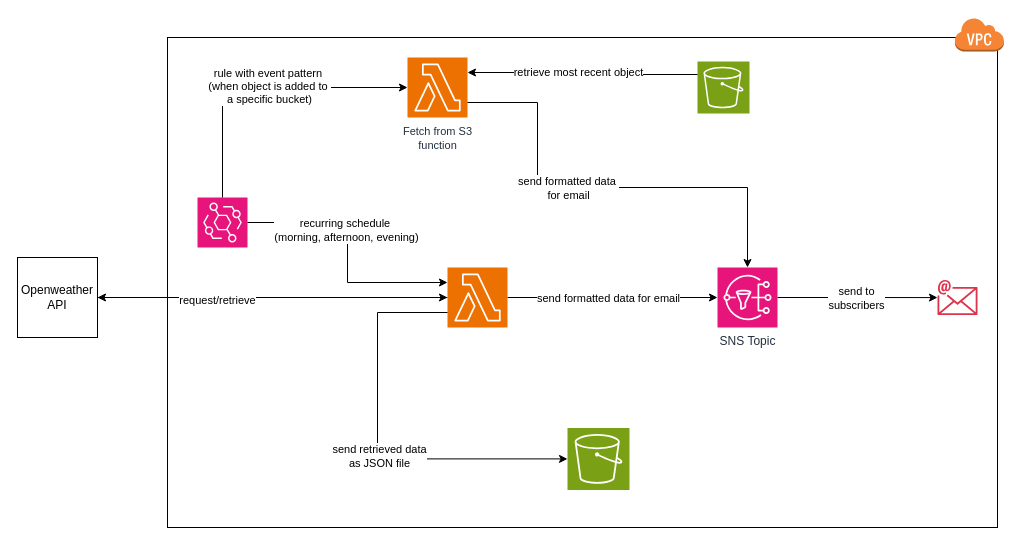
Image size: 1022x545. Some labels were removed from this diagram. The box of each missing label's shape, as (x1, y1, x2, y2) in pixels:
Specified bucket in rule: (696, 60, 750, 114)
Weather External API function: (446, 266, 508, 328)
